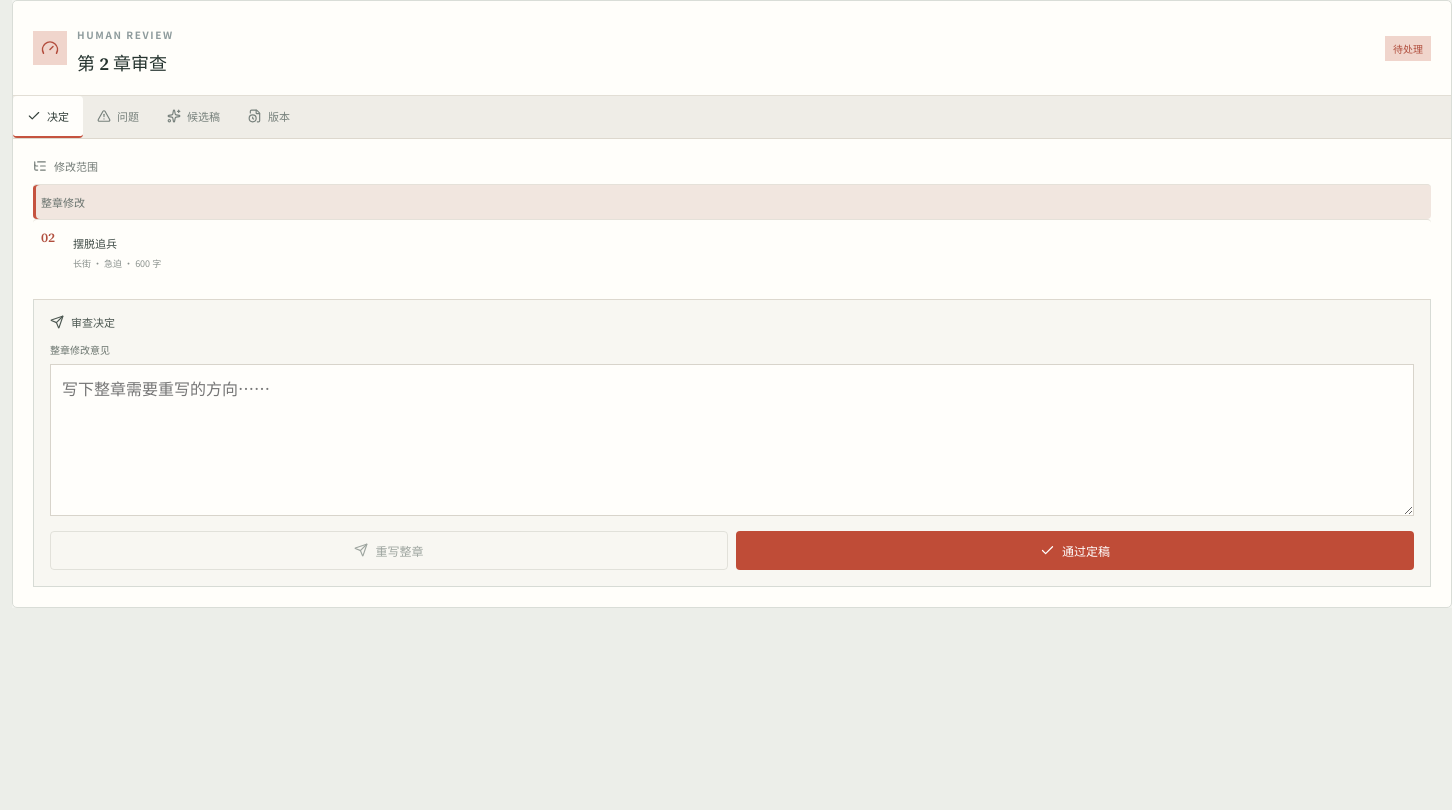
ReviewWorkspace › keeps a rejected issue repair on the issues tab and exposes its error
Click the tab "问题". click: (118, 117)
box: [83,96,153,138]
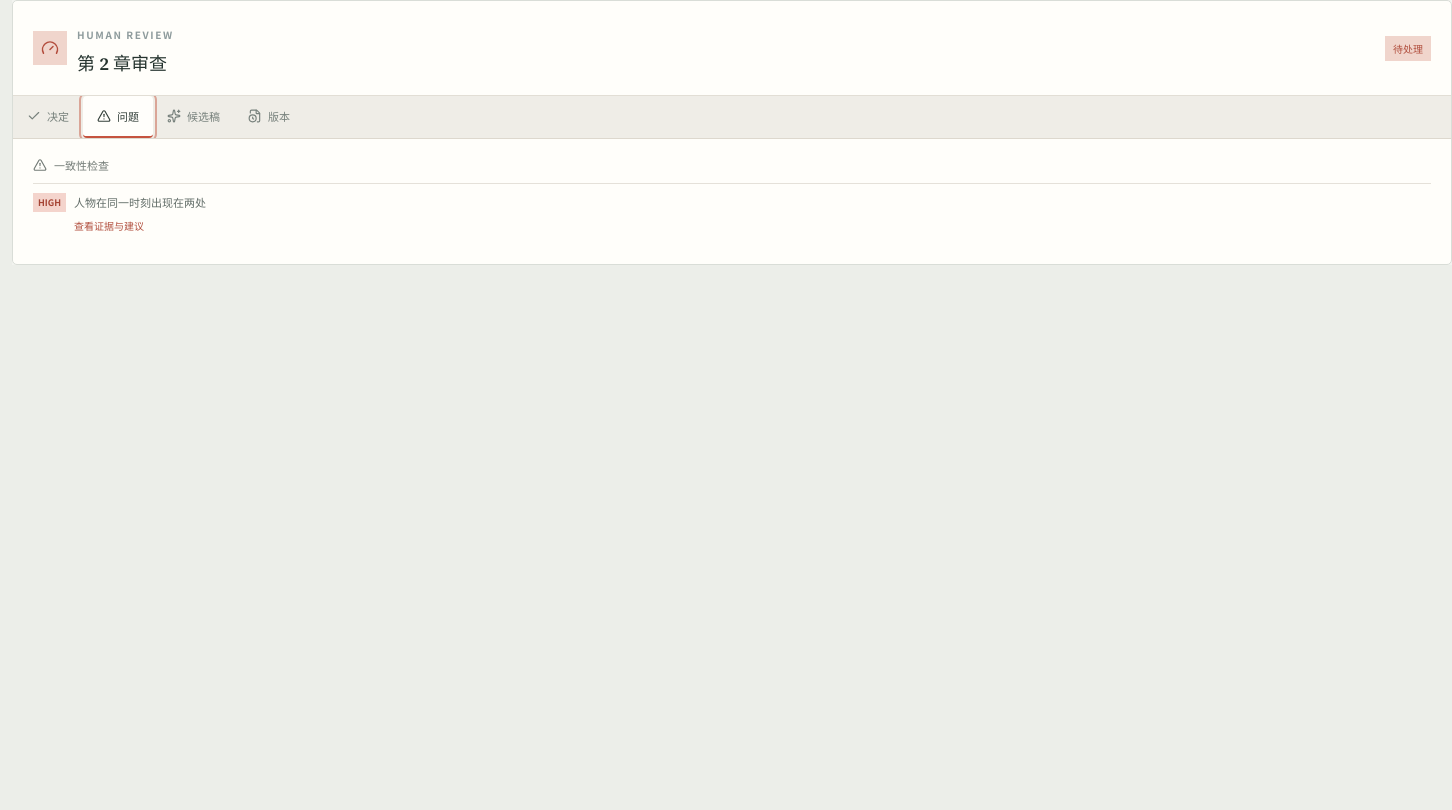
Click the button "查看证据与建议". click: (109, 222)
box: [74,212,144,232]
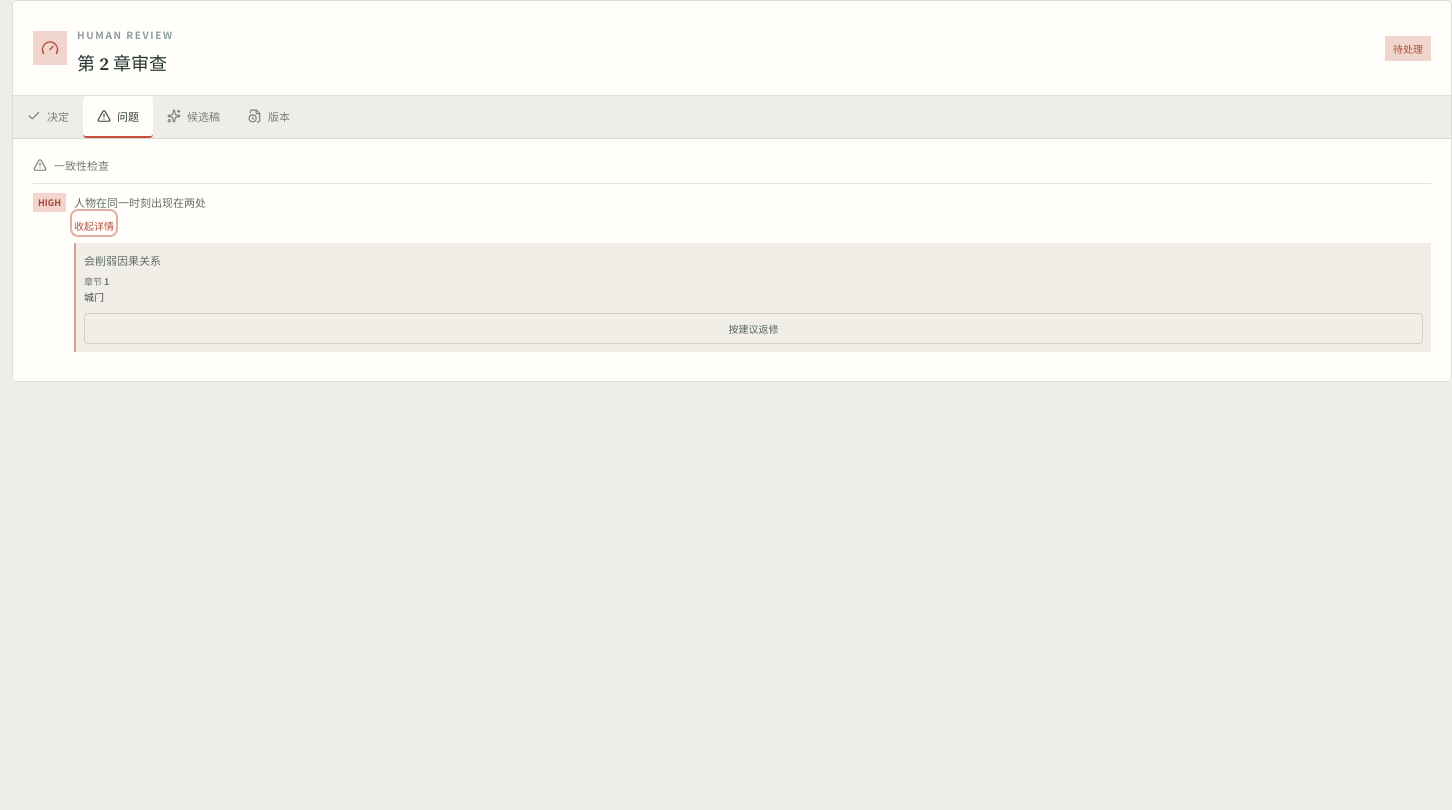
Click the button "按建议返修". click: (754, 328)
box: [84,313,1423,344]
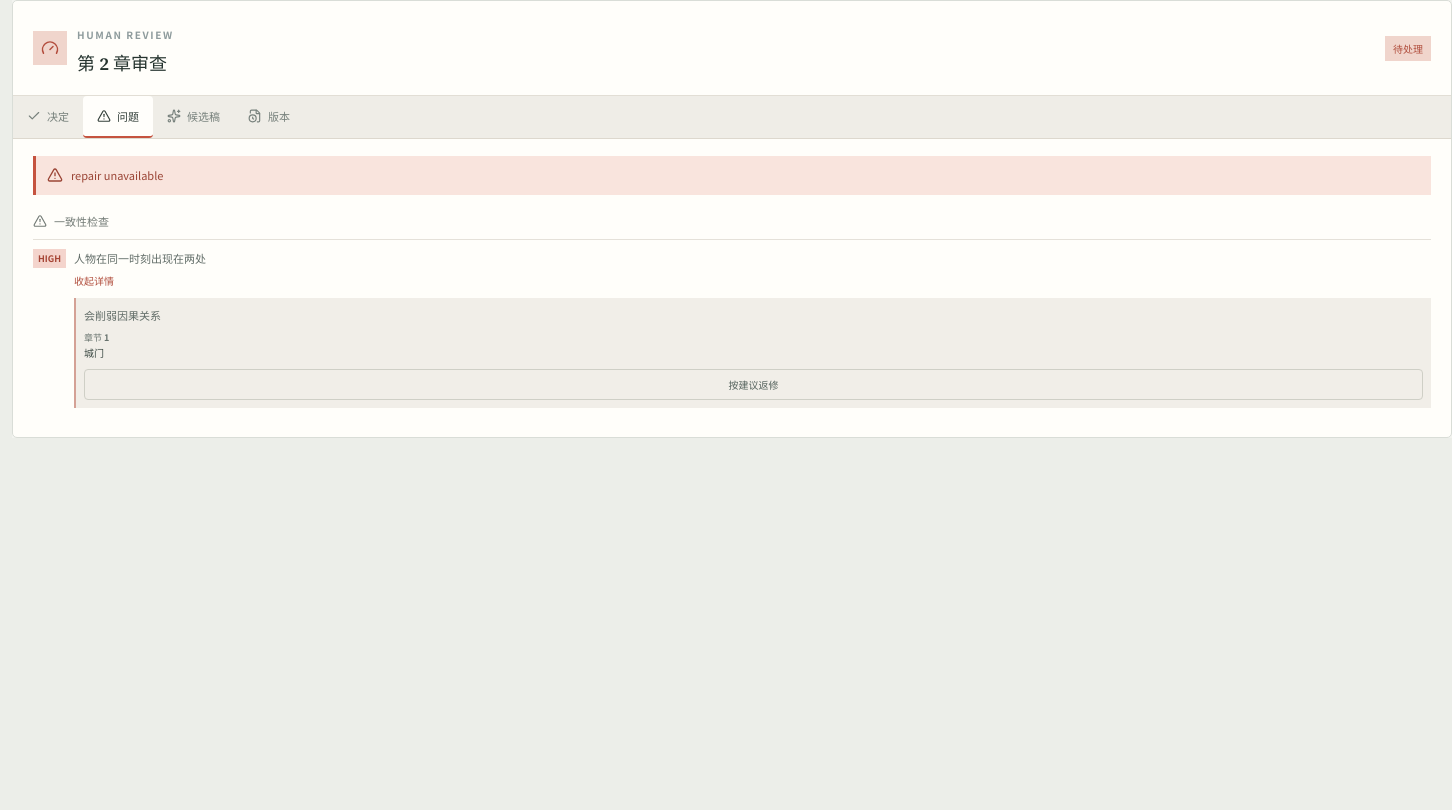
Result: the panel named "问题" is shown at [13,139,1451,416]
Result: the message reads "repair unavailable" at [71,167,163,183]
